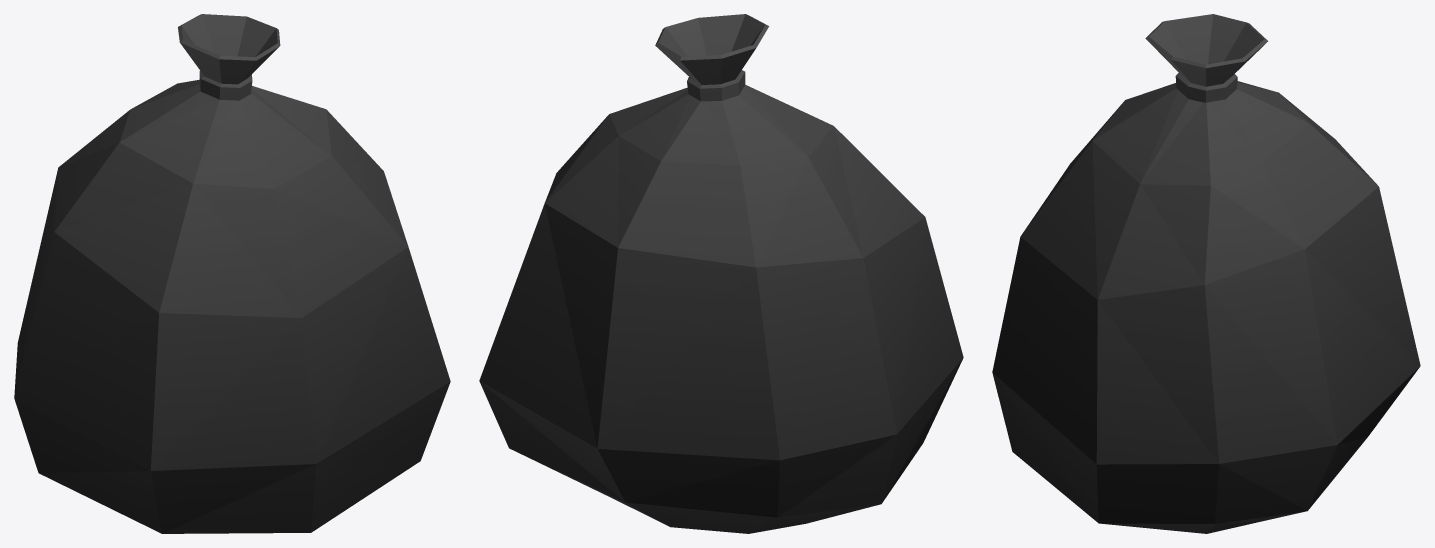
Rendered from Prop_Trash_Bag_01.obj.
3 views of the same model, side by side, from view 1: azimuth 30°, elevation 25°; view 2: azimuth 150°, elevation 25°; view 3: azimuth 270°, elevation 25° (orthographic). The views are drawn at different scales.
Visible parts, largest first — view 1: Prop_Trash_Bag_01; view 2: Prop_Trash_Bag_01; view 3: Prop_Trash_Bag_01.
Part boxes in pixels (x1=…): Prop_Trash_Bag_01: x1=14, y1=14, x2=450, y2=533; Prop_Trash_Bag_01: x1=479, y1=14, x2=963, y2=533; Prop_Trash_Bag_01: x1=992, y1=14, x2=1420, y2=533.
Bounding box in the file's own units: 0.5927 × 0.653 × 0.5613.
1 material, 1 textured.
